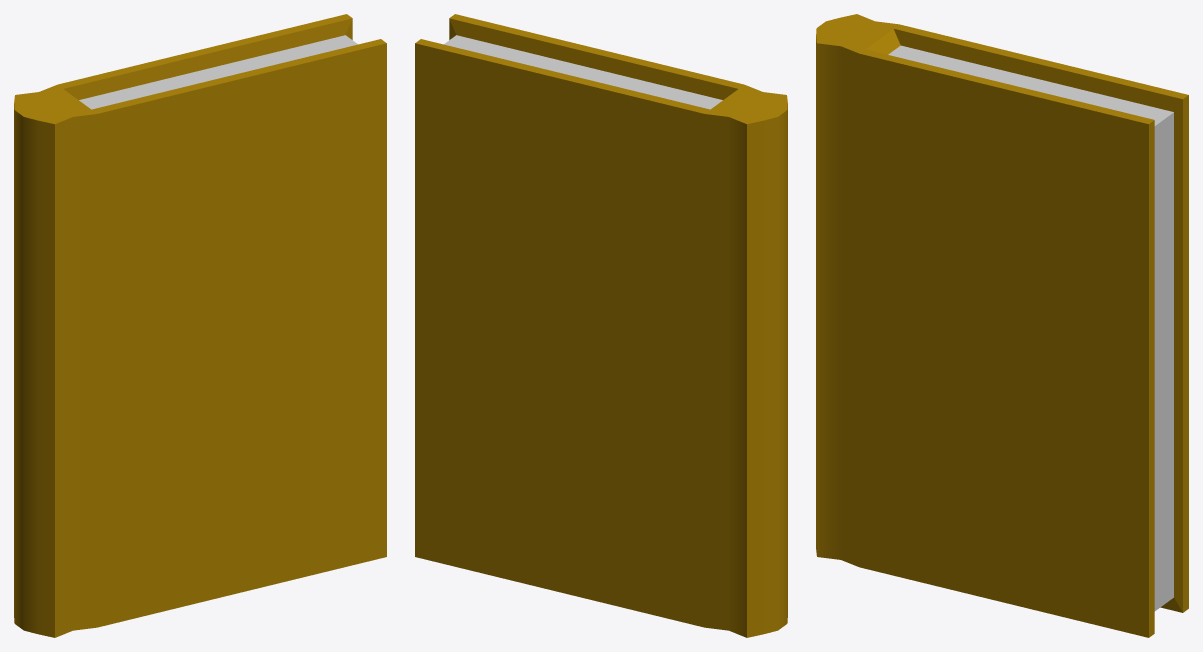
File: book_6.fbx
3 views of the same model, side by side, from view 1: azimuth 30°, elevation 25°; view 2: azimuth 150°, elevation 25°; view 3: azimuth 330°, elevation 25° (orthographic).
Parts seen in each view (by area): view 1: pCube1; view 2: pCube1; view 3: pCube1.
Part boxes in pixels (<box>): pCube1: <box>14,14,386,637</box>; pCube1: <box>415,14,787,637</box>; pCube1: <box>816,14,1188,637</box>.
Size of the model in its own units: 11.6 by 16.38 by 2.31.
